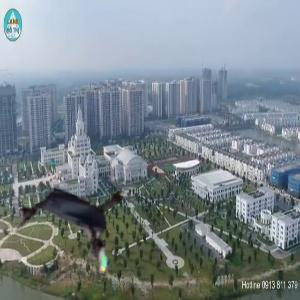drone: (2, 152, 146, 296)
